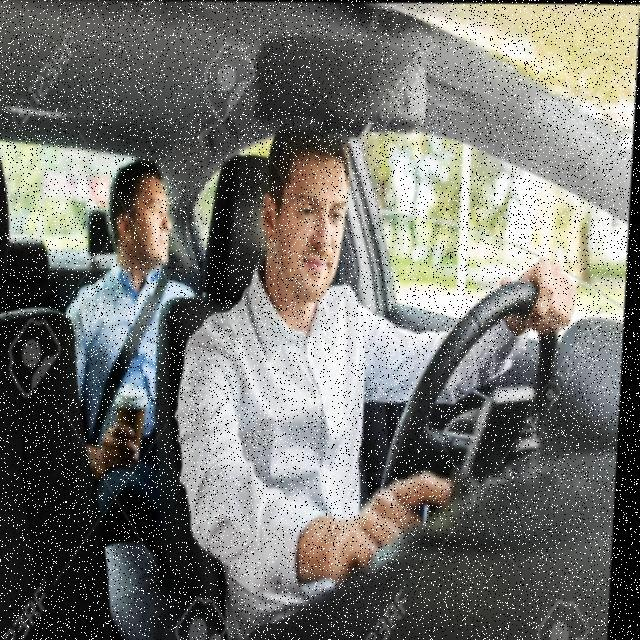noSeatbelt: (182, 269, 415, 615)
seatbelt: (86, 258, 174, 454)
